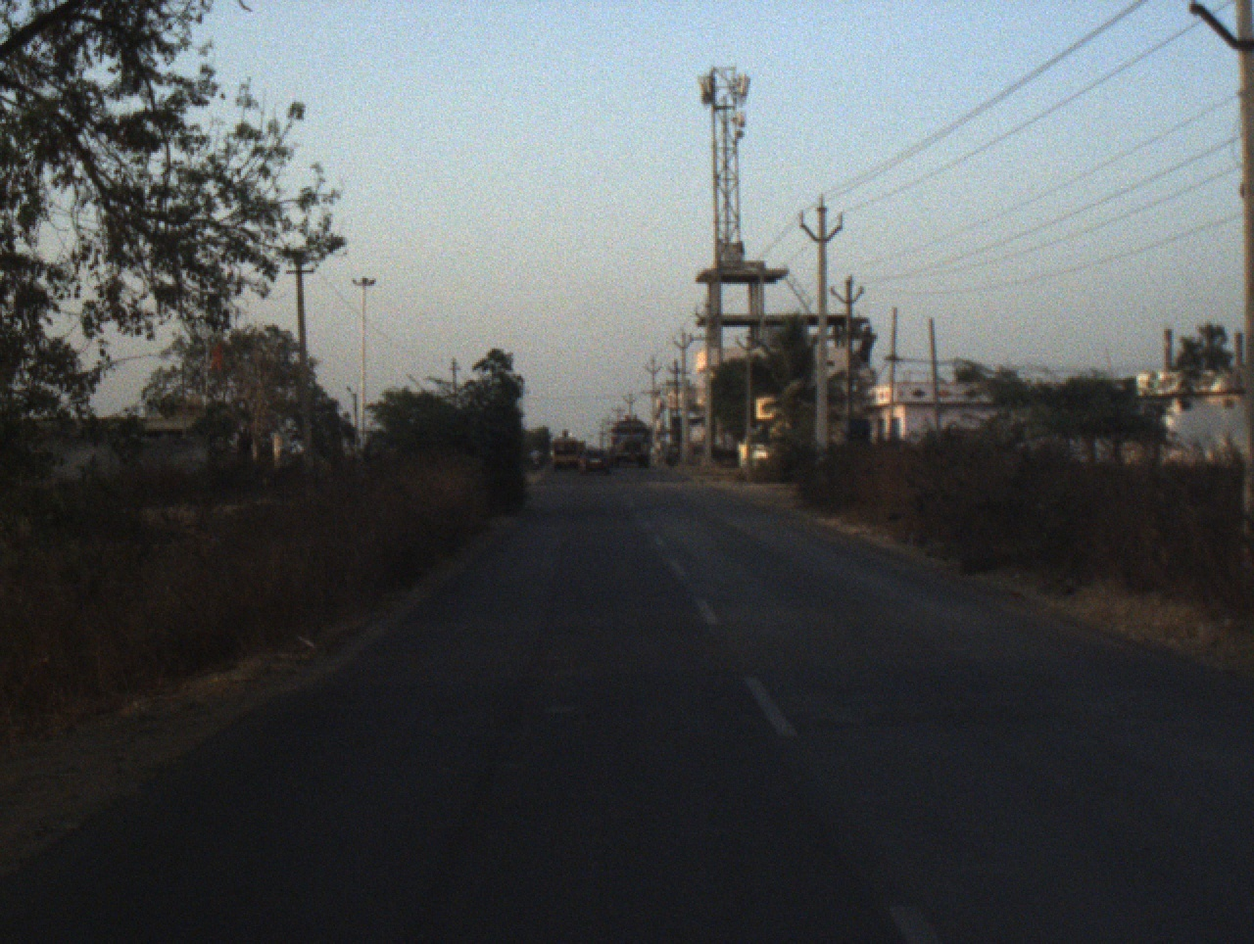autorickshaw: (552, 427, 582, 473)
car: (578, 446, 612, 478)
motorcycle: (664, 451, 678, 471), (532, 457, 541, 469)
rider: (663, 439, 680, 462), (529, 447, 543, 462)
truck: (606, 411, 653, 471)
vehicle fallback: (575, 439, 586, 452)
